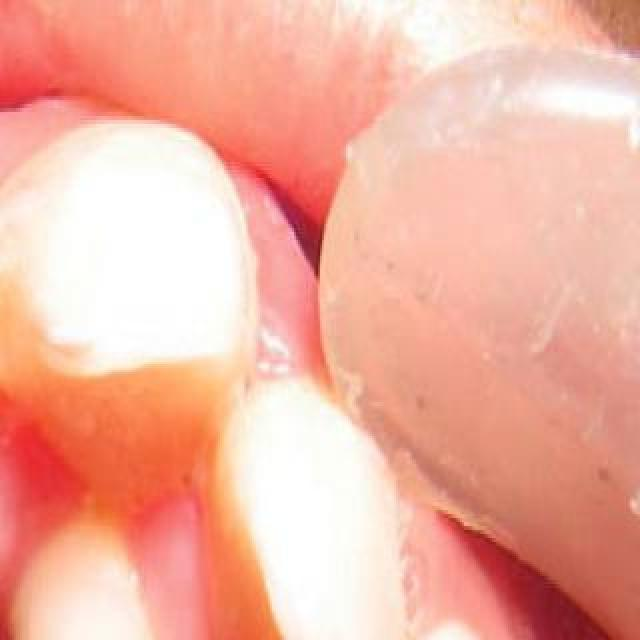maligned: (0, 506, 230, 640)
plaque: (0, 122, 2, 310)
